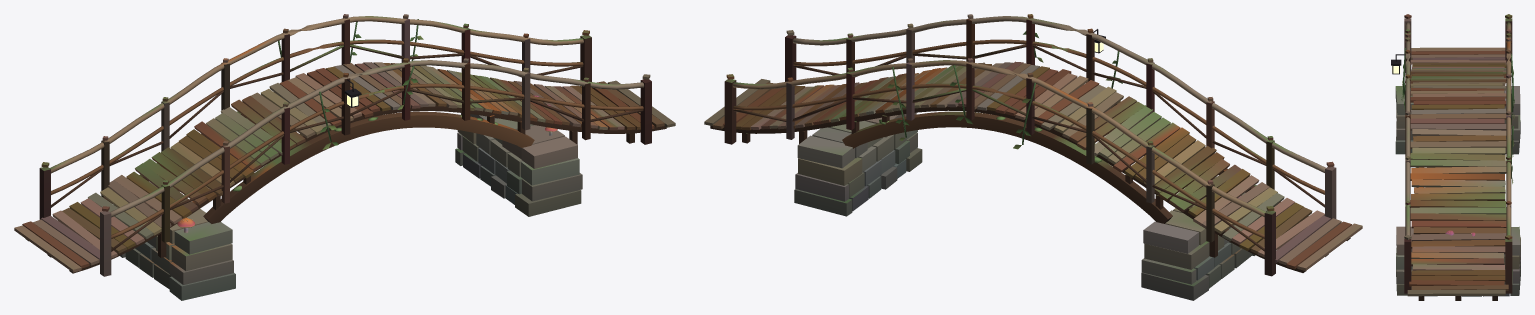
File: kopru_ahsap.glb
The picture shows the model from 3 angles, left to right: view 1: azimuth 30°, elevation 25°; view 2: azimuth 150°, elevation 25°; view 3: azimuth 270°, elevation 25°; orthographic projection. The views are drawn at different scales.
Parts seen in each view (by area): view 1: kopru_ahsap_LOD0; view 2: kopru_ahsap_LOD0; view 3: kopru_ahsap_LOD0.
Part boxes in pixels (x1=…): kopru_ahsap_LOD0: x1=14, y1=14, x2=675, y2=300; kopru_ahsap_LOD0: x1=704, y1=14, x2=1362, y2=300; kopru_ahsap_LOD0: x1=1391, y1=14, x2=1520, y2=300.
Size of what is drawn, in the model's own units: 15.84 by 4.54 by 3.53.
